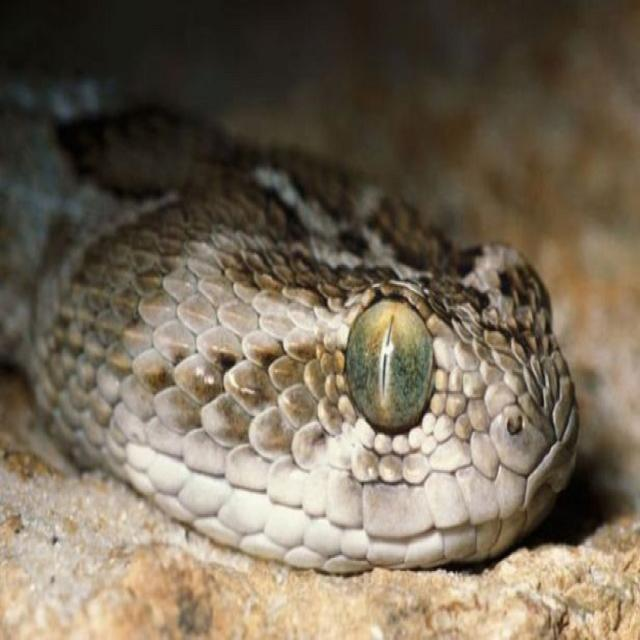Snake: (0, 59, 588, 580)
